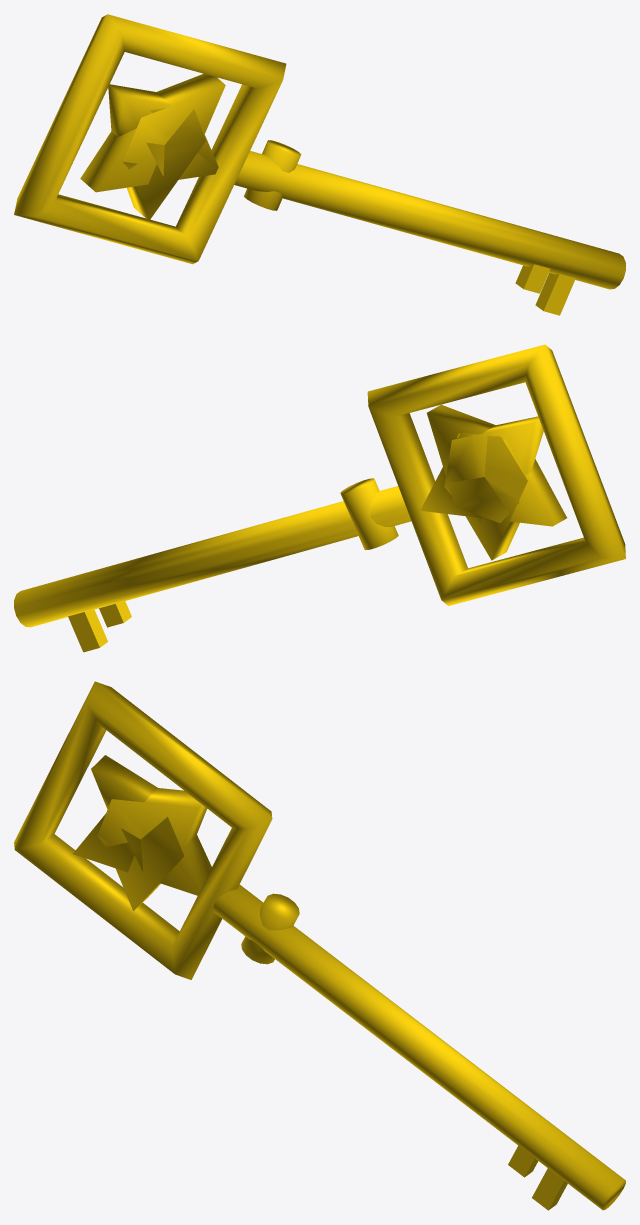
The model's file is key.gltf.
3 renders of one model, top to bottom at view 1: azimuth 30°, elevation 25°; view 2: azimuth 150°, elevation 25°; view 3: azimuth 330°, elevation 25°, orthographic.
Parts seen in each view (by area): view 1: Cube.001; view 2: Cube.001; view 3: Cube.001.
Boxes of the visible parts, bbox=[...] form: Cube.001: bbox=[14, 14, 625, 315]; Cube.001: bbox=[14, 344, 625, 652]; Cube.001: bbox=[14, 681, 625, 1210].
Size of the model in its own units: 0.9696 by 0.6288 by 0.0833.
